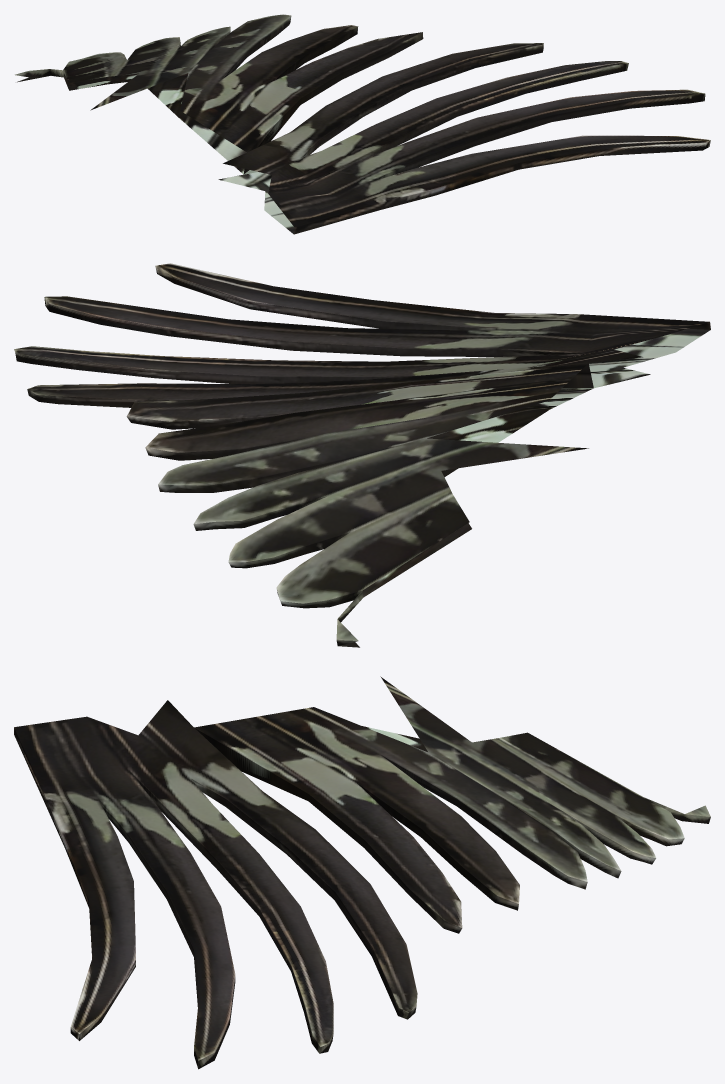
Rendered from Woodpecker_R_out.gltf.
The picture shows the model from 3 angles, top to bottom: view 1: azimuth 30°, elevation 25°; view 2: azimuth 150°, elevation 25°; view 3: azimuth 270°, elevation 25°; orthographic projection. The views are drawn at different scales.
Visible parts, largest first — view 1: Woodpecker_R_out; view 2: Woodpecker_R_out; view 3: Woodpecker_R_out.
Boxes of the visible parts, bbox=[...] form: Woodpecker_R_out: bbox=[15, 14, 710, 234]; Woodpecker_R_out: bbox=[14, 263, 710, 647]; Woodpecker_R_out: bbox=[14, 676, 710, 1069].
Bounding box in the file's own units: 0.0833 × 0.0134 × 0.078.
1 material, 1 textured.
